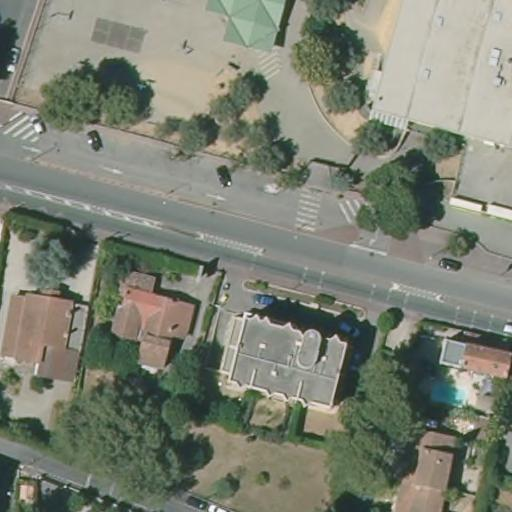pool: (414, 369, 478, 413)
